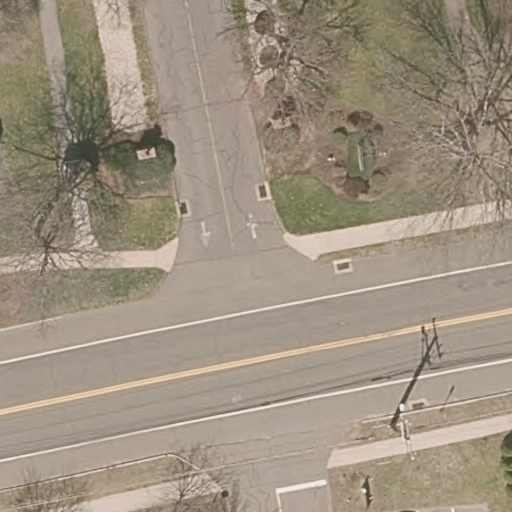DT: (388, 403, 417, 461)
